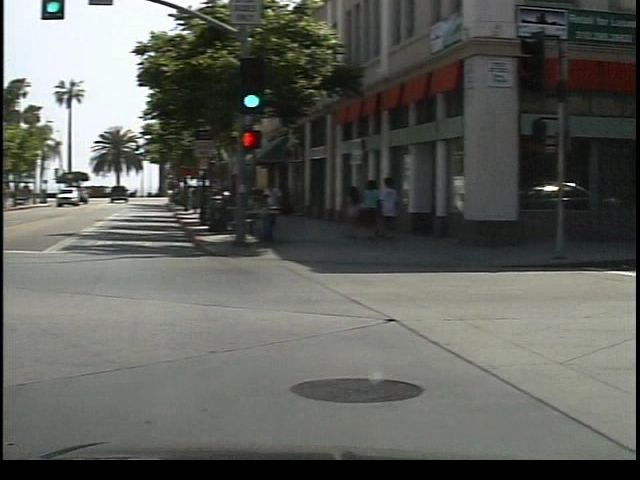person: (271, 175, 298, 234)
